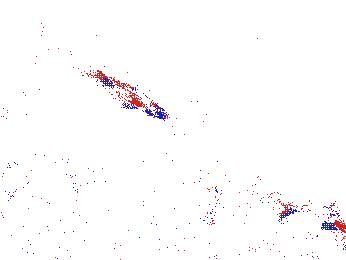X-ray fish: (26, 65, 83, 101), (62, 165, 108, 201)
redtail glassfish: (99, 71, 173, 122), (277, 197, 341, 224), (203, 185, 224, 228)
